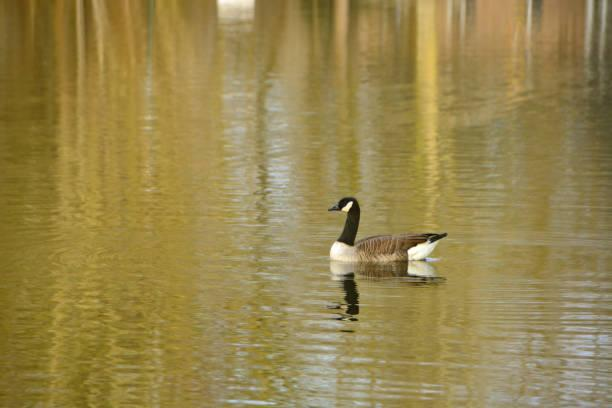Canadian-Goose: (326, 194, 448, 267)
